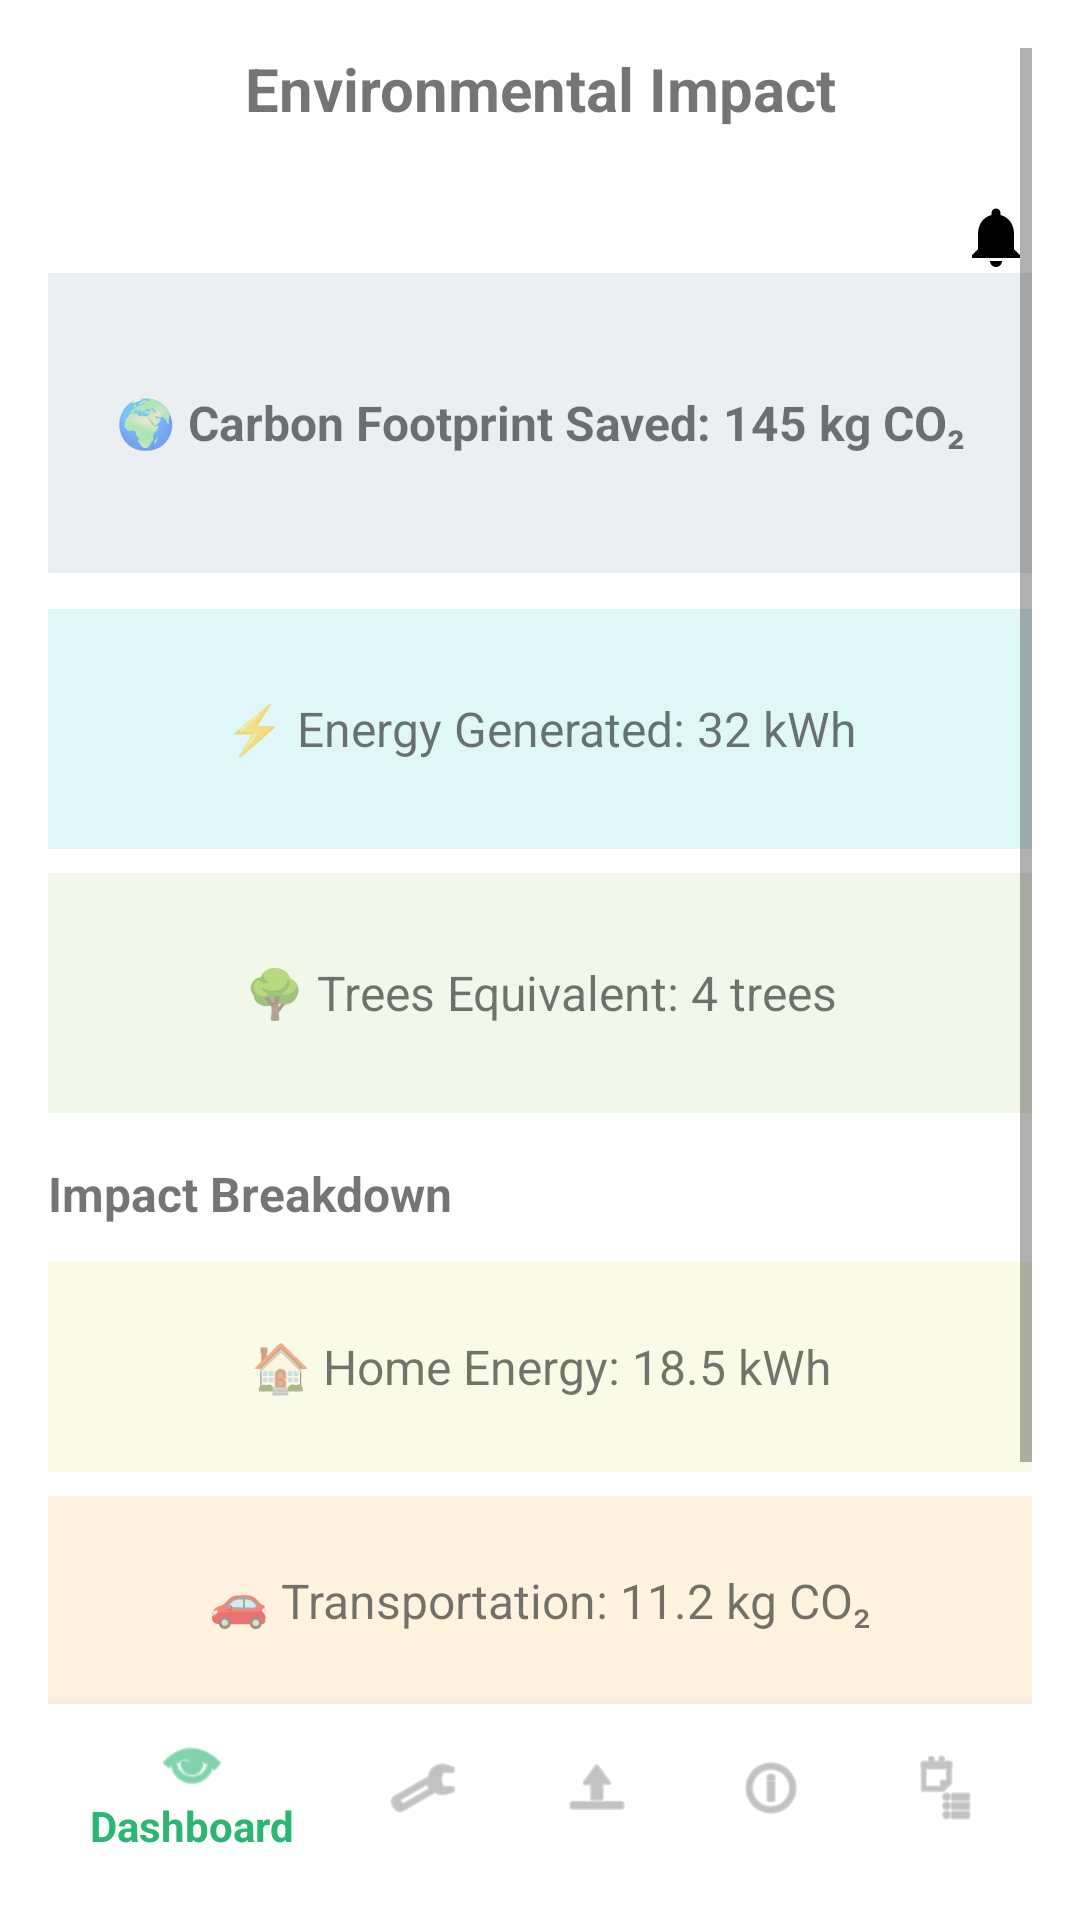

Named icons in this screenshot (1080px x 1920px) and their bounding boxes, (x1, y1, x2, y2):
Notifications: (972, 201, 1032, 273)
